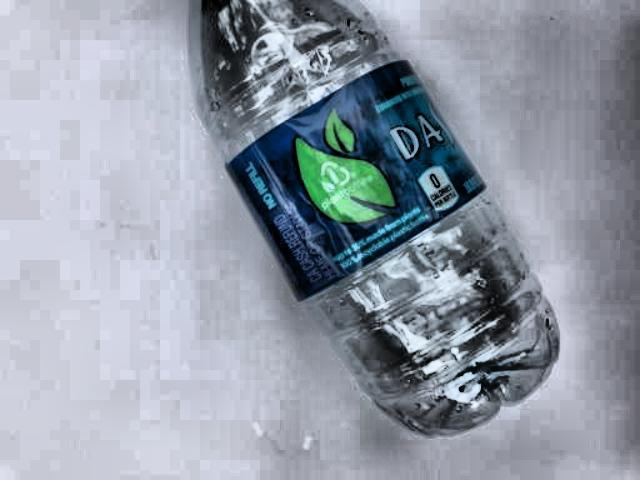Bottles: (164, 0, 573, 447)
